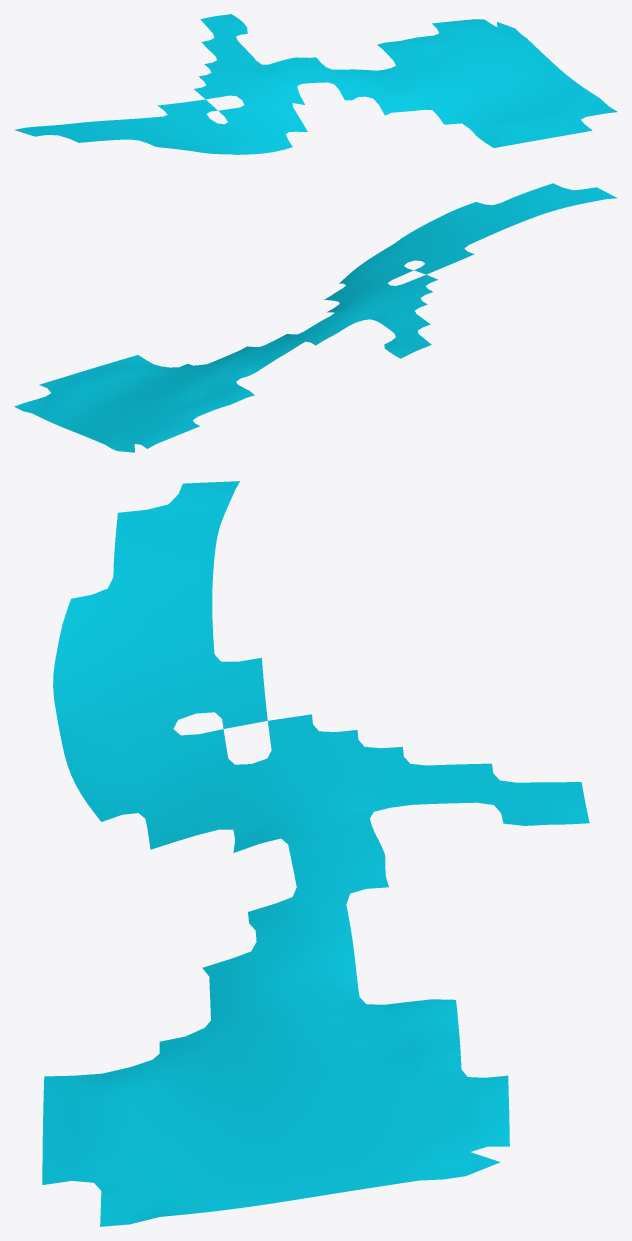
Rendered from water terrain.fbx.
The picture shows the model from 3 angles, top to bottom: view 1: azimuth 30°, elevation 25°; view 2: azimuth 210°, elevation 25°; view 3: azimuth 270°, elevation 25°; orthographic projection. The views are drawn at different scales.
Parts seen in each view (by area): view 1: polySurface2; view 2: polySurface2; view 3: polySurface2.
Boxes of the visible parts, x1,y1,x2,y2 form: polySurface2: [15, 14, 617, 154]; polySurface2: [14, 183, 617, 452]; polySurface2: [42, 481, 589, 1226].
Bounding box in the file's own units: 1356 × 222 × 565.
